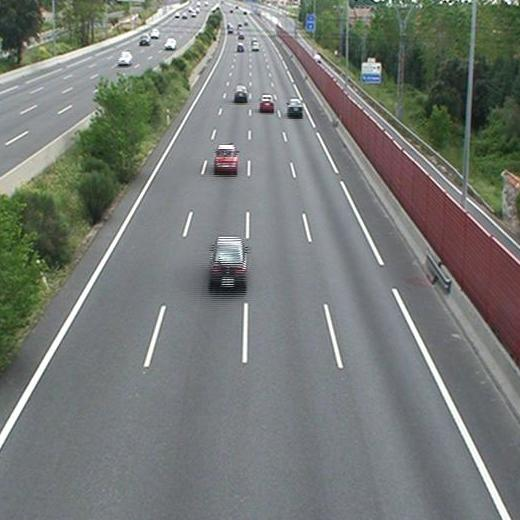car: (211, 236, 244, 287), (215, 146, 237, 171), (259, 95, 274, 111), (288, 100, 303, 115), (234, 86, 248, 100), (237, 42, 245, 52)
